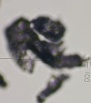microplastic: (3, 16, 90, 74), (35, 73, 74, 103), (31, 15, 67, 43), (1, 71, 9, 89)
